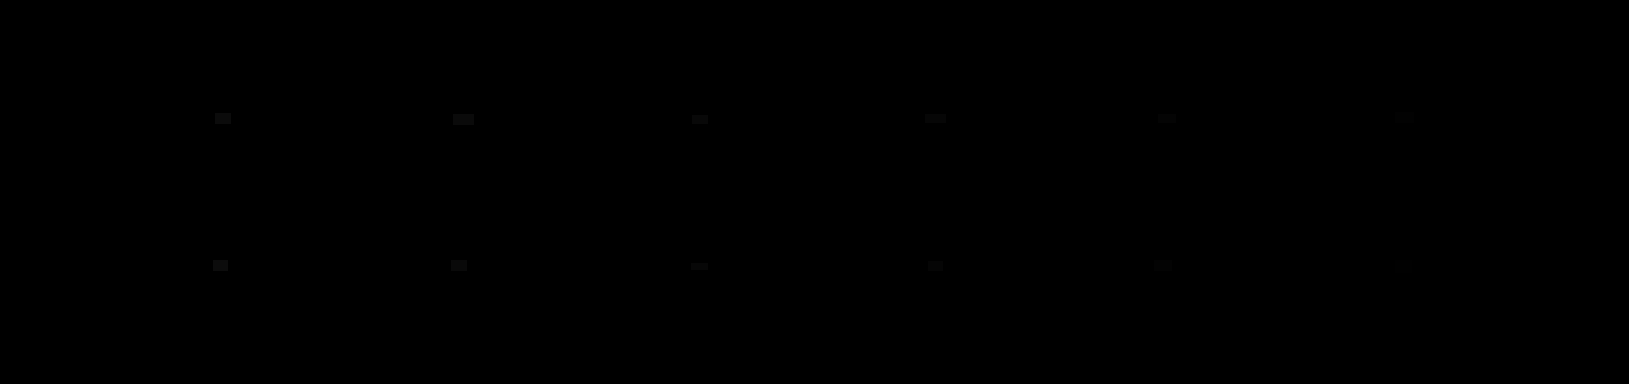light: (453, 114, 474, 125), (1395, 112, 1414, 124), (1395, 260, 1412, 273), (925, 114, 946, 124), (1154, 260, 1172, 271), (451, 260, 468, 271), (1158, 114, 1176, 124), (928, 260, 943, 271), (215, 113, 231, 124), (213, 260, 228, 271), (692, 115, 707, 124), (691, 263, 707, 270)
